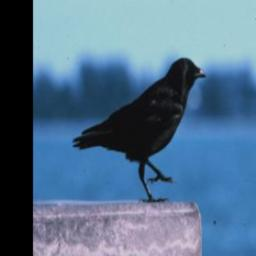Crow: (71, 52, 208, 204)
